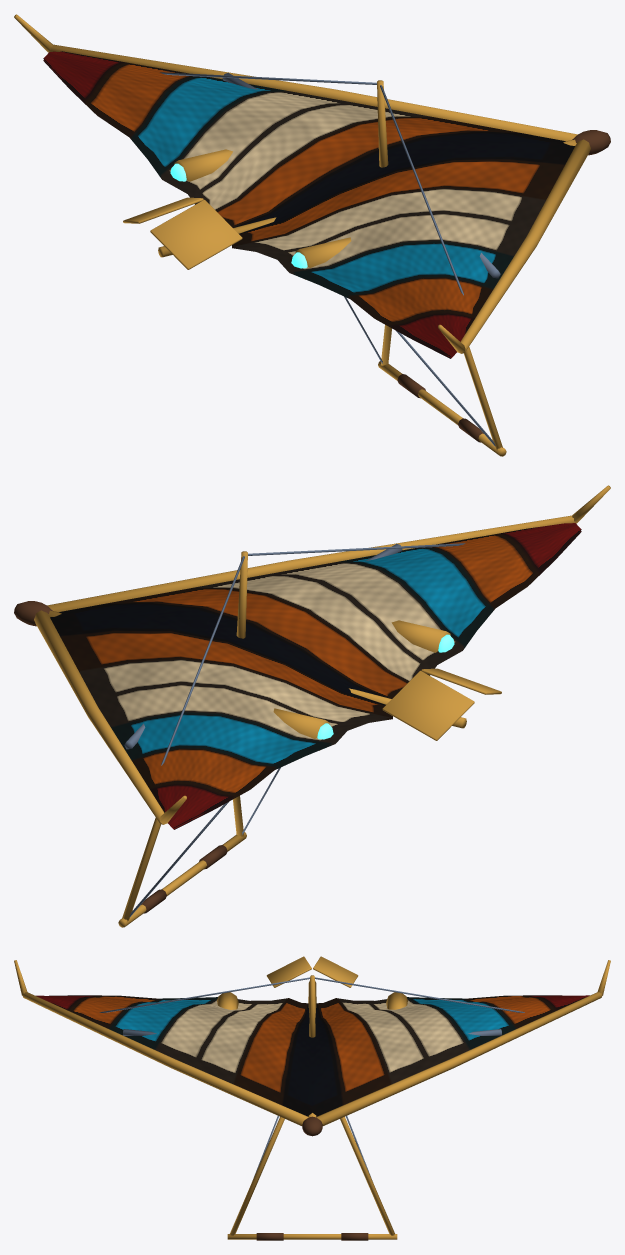
File: sky_glider.glb
3 views of the same model, one above another, from view 1: azimuth 30°, elevation 25°; view 2: azimuth 150°, elevation 25°; view 3: azimuth 270°, elevation 25° (orthographic). The views are drawn at different scales.
Parts seen in each view (by area): view 1: wing_sail, spar_frame, boost_jets, trapeze_frame, grip_bar; view 2: wing_sail, spar_frame, boost_jets, trapeze_frame, grip_bar; view 3: wing_sail, spar_frame, trapeze_frame, grip_bar, boost_jets.
Part boxes in pixels (x1=…): wing_sail: x1=43, y1=51, x2=574, y2=358; spar_frame: x1=14, y1=14, x2=610, y2=353; boost_jets: x1=170, y1=149, x2=351, y2=279; trapeze_frame: x1=344, y1=296, x2=502, y2=450; grip_bar: x1=378, y1=361, x2=506, y2=456; wing_sail: x1=50, y1=523, x2=581, y2=829; spar_frame: x1=14, y1=485, x2=610, y2=824; boost_jets: x1=273, y1=620, x2=454, y2=750; trapeze_frame: x1=122, y1=767, x2=280, y2=921; grip_bar: x1=118, y1=832, x2=246, y2=927; wing_sail: x1=36, y1=995, x2=589, y2=1116; spar_frame: x1=14, y1=956, x2=610, y2=1136; trapeze_frame: x1=230, y1=1116, x2=394, y2=1235; grip_bar: x1=227, y1=1233, x2=397, y2=1240; boost_jets: x1=217, y1=992, x2=407, y2=1009.
Bounding box in the file's own units: 1.95 × 1.39 × 3.09.
Materials: 5 (1 with a texture image).
